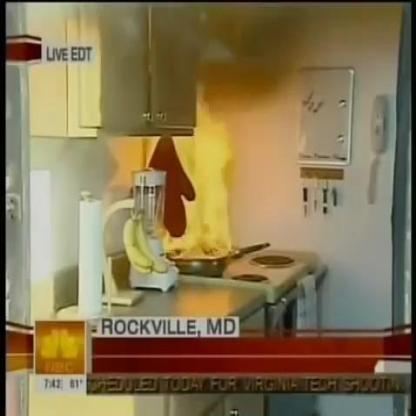fire: (164, 110, 234, 256)
